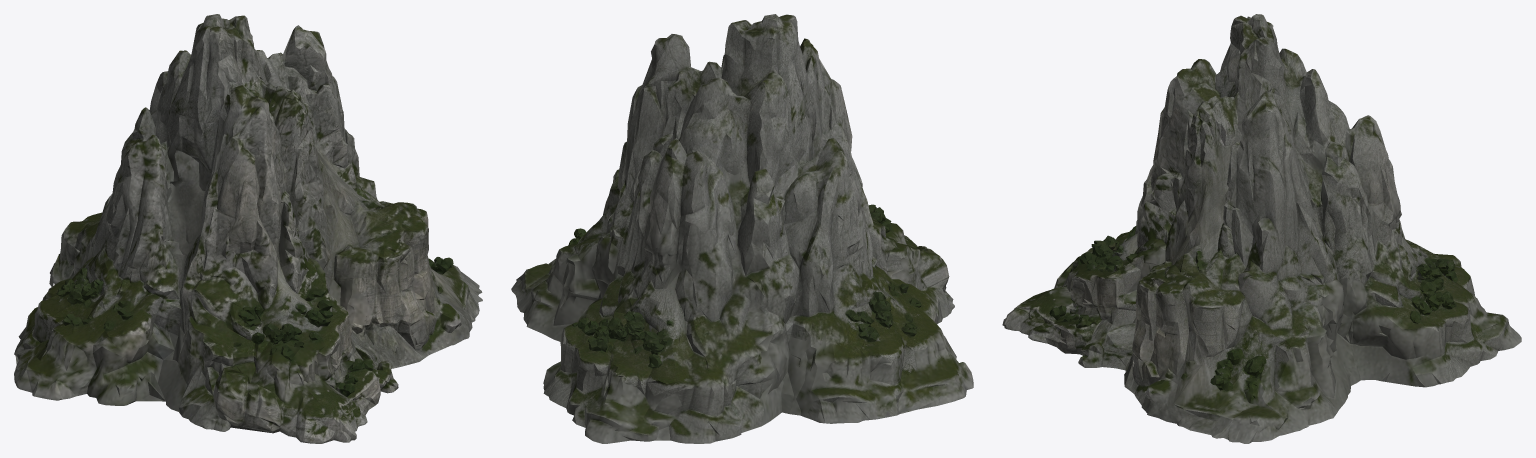
Rendered from MontanhaEldoria01.glb.
The picture shows the model from 3 angles, left to right: view 1: azimuth 30°, elevation 25°; view 2: azimuth 150°, elevation 25°; view 3: azimuth 270°, elevation 25°; orthographic projection. The views are drawn at different scales.
Visible parts, largest first — view 1: output_unwrapped; view 2: output_unwrapped; view 3: output_unwrapped.
Part boxes in pixels (x1=…): output_unwrapped: x1=14, y1=14, x2=482, y2=443; output_unwrapped: x1=511, y1=14, x2=973, y2=443; output_unwrapped: x1=1002, y1=14, x2=1521, y2=443.
Bounding box in the file's own units: 1.8 × 1.25 × 1.9.
Materials: 1 (1 with a texture image).
